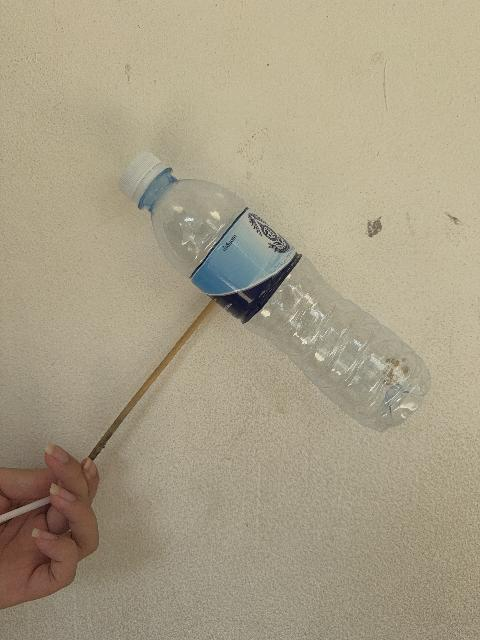bottle: (120, 152, 430, 430)
